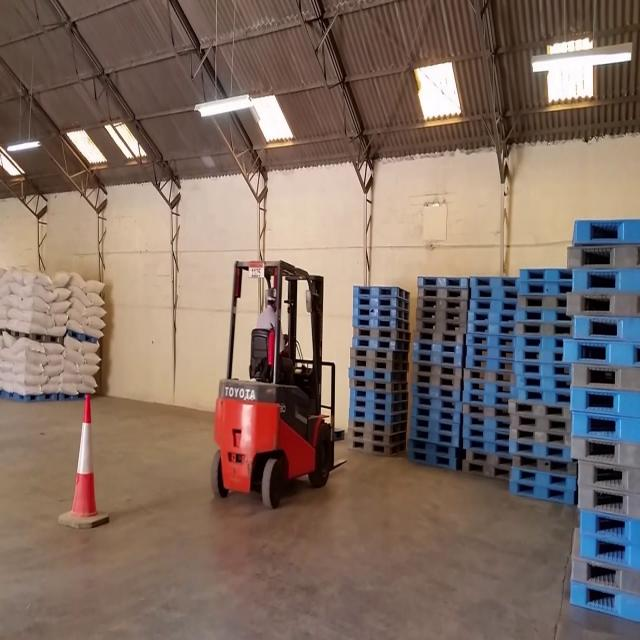Chariot elevateur: (200, 243, 342, 513)
